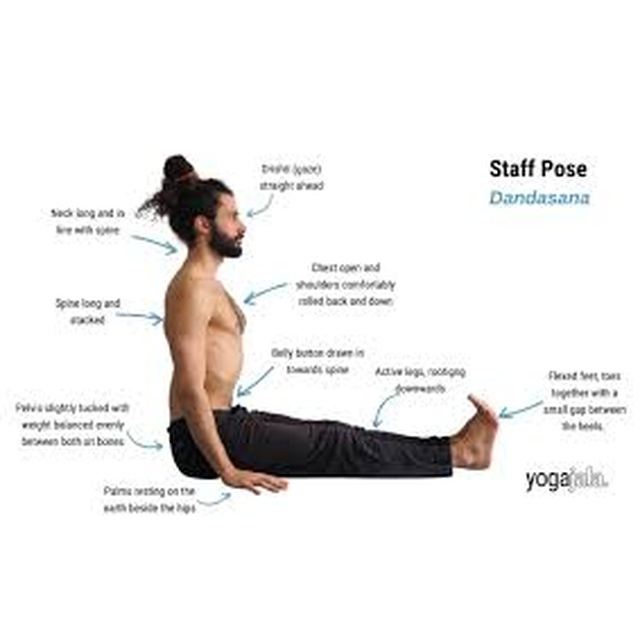Staff_Pose: (133, 154, 501, 497)
